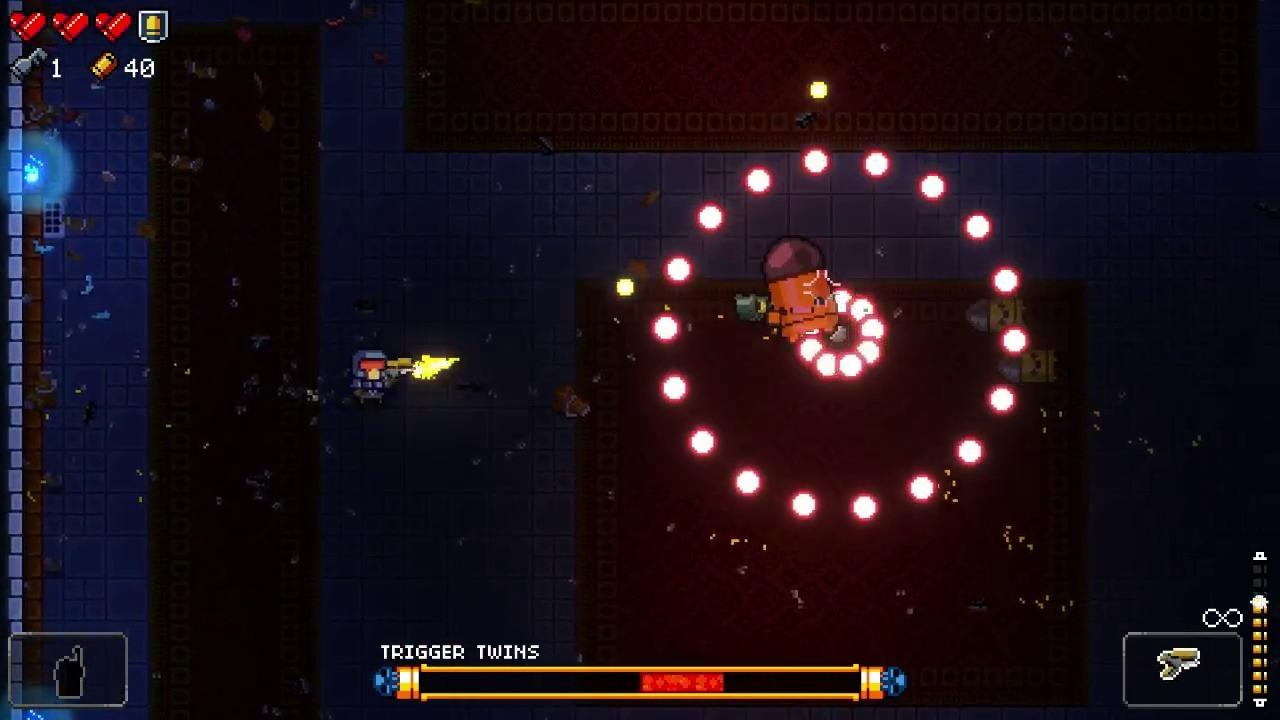boss_smiley: (762, 238, 841, 342)
bullet: (658, 370, 687, 408), (662, 256, 694, 288), (688, 428, 719, 461), (696, 205, 727, 235), (963, 211, 992, 243), (651, 314, 679, 347), (744, 166, 772, 199), (916, 172, 946, 202), (988, 264, 1018, 294), (1000, 326, 1029, 357), (955, 436, 986, 465), (812, 353, 843, 382), (853, 339, 885, 367), (734, 467, 761, 500), (862, 150, 891, 180), (988, 387, 1016, 418), (844, 298, 877, 324), (851, 492, 879, 522), (794, 337, 824, 365), (909, 474, 936, 505), (789, 491, 817, 520), (801, 149, 832, 175), (861, 317, 888, 346), (832, 289, 858, 319), (839, 352, 865, 381)
dead_bullet_kin: (999, 350, 1059, 386), (966, 302, 1023, 332)
player: (353, 351, 385, 404)
